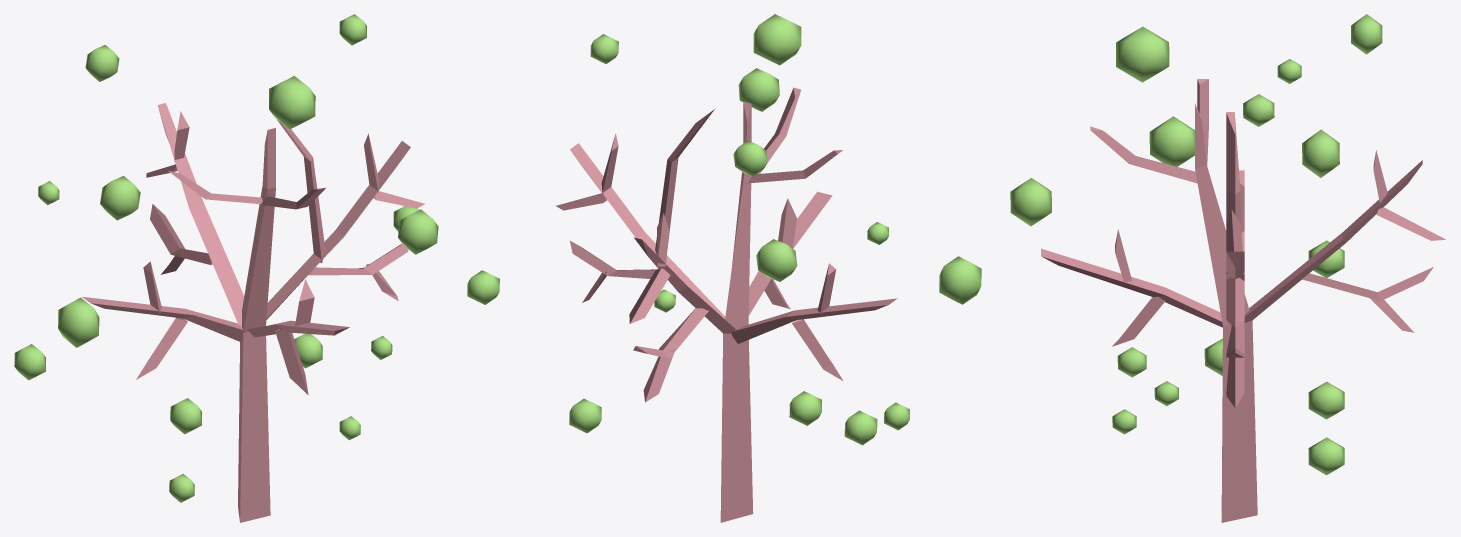
3 renders of one model, left to right at view 1: azimuth 30°, elevation 25°; view 2: azimuth 150°, elevation 25°; view 3: azimuth 270°, elevation 25°, orthographic. The views are drawn at different scales.
Parts seen in each view (by area): view 1: Gengon017, Sphere461, Sphere467, Sphere464, Sphere465, Sphere462, Sphere470, Sphere468, Sphere472, Sphere463, Sphere469; view 2: Gengon017, Sphere461, Sphere467, Sphere464, Sphere465, Sphere462, Sphere472, Sphere474, Sphere468, Sphere470, Sphere463; view 3: Gengon017, Sphere461, Sphere467, Sphere464, Sphere465, Sphere472, Sphere474, Sphere462, Sphere463, Sphere468, Sphere469, Sphere470.
Part boxes in pixels (x1=…): Gengon017: x1=82, y1=103, x2=424, y2=522; Sphere461: x1=269, y1=76, x2=315, y2=129; Sphere467: x1=58, y1=297, x2=99, y2=347; Sphere464: x1=398, y1=209, x2=438, y2=254; Sphere465: x1=100, y1=176, x2=140, y2=220; Sphere462: x1=85, y1=45, x2=119, y2=81; Sphere470: x1=170, y1=398, x2=201, y2=434; Sphere468: x1=14, y1=344, x2=45, y2=380; Sphere472: x1=294, y1=333, x2=322, y2=368; Sphere463: x1=339, y1=14, x2=366, y2=45; Sphere469: x1=169, y1=474, x2=194, y2=502; Gengon017: x1=556, y1=87, x2=897, y2=522; Sphere461: x1=753, y1=14, x2=801, y2=65; Sphere467: x1=939, y1=256, x2=981, y2=304; Sphere464: x1=738, y1=68, x2=779, y2=111; Sphere465: x1=756, y1=239, x2=797, y2=281; Sphere462: x1=733, y1=141, x2=767, y2=176; Sphere472: x1=569, y1=398, x2=601, y2=433; Sphere474: x1=467, y1=270, x2=499, y2=304; Sphere468: x1=844, y1=410, x2=877, y2=445; Sphere470: x1=789, y1=391, x2=821, y2=425; Sphere463: x1=590, y1=34, x2=618, y2=63; Gengon017: x1=1041, y1=79, x2=1445, y2=522; Sphere461: x1=1116, y1=26, x2=1169, y2=82; Sphere467: x1=1149, y1=116, x2=1194, y2=166; Sphere464: x1=1010, y1=178, x2=1051, y2=226; Sphere465: x1=1302, y1=129, x2=1339, y2=177; Sphere472: x1=1308, y1=437, x2=1344, y2=475; Sphere474: x1=1308, y1=381, x2=1344, y2=419; Sphere462: x1=1351, y1=14, x2=1382, y2=54; Sphere463: x1=1243, y1=94, x2=1274, y2=126; Sphere468: x1=1308, y1=240, x2=1344, y2=277; Sphere469: x1=1117, y1=347, x2=1146, y2=377; Sphere470: x1=1204, y1=338, x2=1222, y2=375.
Size of the model in its own units: 8.92 by 9.01 by 7.38.
